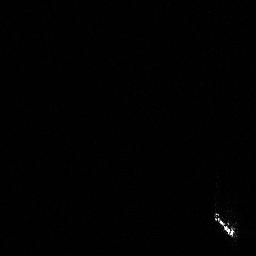ship: (211, 208, 239, 239)
